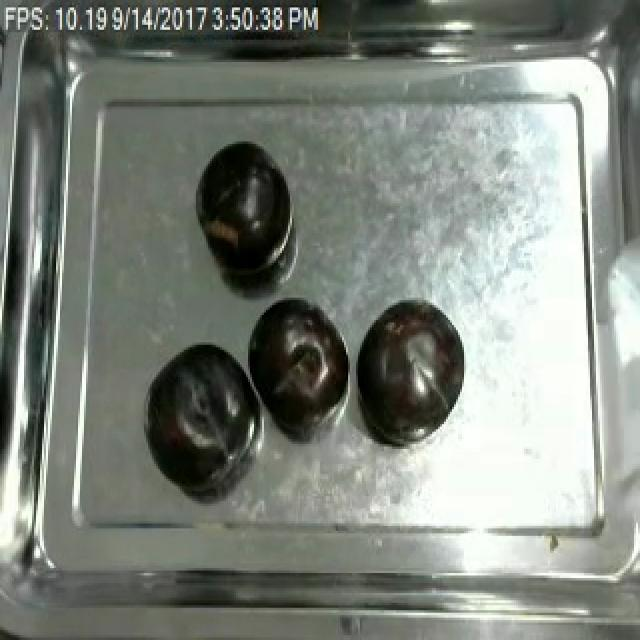Fruit: (142, 337, 262, 489), (352, 293, 470, 444), (192, 136, 290, 278), (242, 293, 342, 427)
